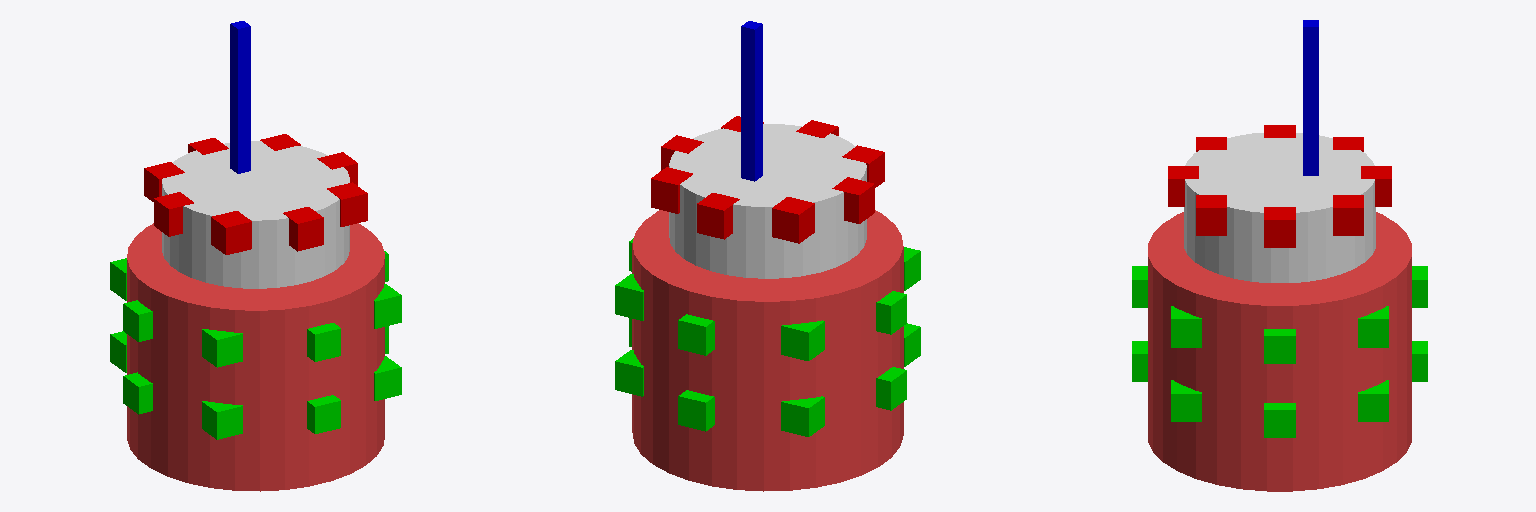
robot.urdf — random_bottle:
<?xml version="1.0"?>
<robot name="random_bottle">

  <!-- Define the cap link -->
  <link name="link1">
    <visual>
      <geometry>
        <mesh filename="cap.obj" scale="1.0 1.0 1.0"/>
      </geometry>
       <material name="white">
        <color rgba=".9 .9 .9 1"/>
      </material>

    </visual>
    <collision>
      <geometry>
        <mesh filename="cap.obj" scale="1.0 1.0 1.0"/>
      </geometry>
    </collision>

    <inertial>
      <mass value="0.018031800088194196"/> <!-- You can adjust the mass as needed -->
      <origin rpy="0 0 0" xyz="0 0 0"/>
      <inertia ixx="5.257573632833981e-06" ixy="0.0" ixz="0.0" iyy="5.257573632833981e-06" iyz="0.0" izz="8.669572309926202e-06"/>
    </inertial>
  </link>

    <link name="l10">
    <visual>
      <geometry>
        <box size="0.01 0.01 0.01"/>
      </geometry>

      <material name="red">
        <color rgba="0.9 0.0 0.0 1"/>
      </material>

    </visual>

    <inertial>
      <mass value="0.0001"/> <!-- You can adjust the mass as needed -->
      <origin rpy="0 0 0" xyz="0 0 -0.00"/> <!-- Offset by half of link1's height + 0.03m for the margin -->
      <inertia ixx="0.000000003" ixy="0.0" ixz="0.0" iyy="0.0000003" iyz="0.0" izz="0.00000003"/>
    </inertial>

  </link>
  <link name="l11">
    <visual>
      <geometry>
        <box size="0.01 0.01 0.01"/>
      </geometry>

      <material name="red">
        <color rgba="0.9 0.0 0.0 1"/>
      </material>

    </visual>

    <inertial>
      <mass value="0.0001"/> <!-- You can adjust the mass as needed -->
      <origin rpy="0 0 0" xyz="0 0 -0.00"/> <!-- Offset by half of link1's height + 0.03m for the margin -->
      <inertia ixx="0.000000003" ixy="0.0" ixz="0.0" iyy="0.0000003" iyz="0.0" izz="0.00000003"/>
    </inertial>

  </link>
  <link name="l12">
    <visual>
      <geometry>
        <box size="0.01 0.01 0.01"/>
      </geometry>

      <material name="red">
        <color rgba="0.9 0.0 0.0 1"/>
      </material>

    </visual>

    <inertial>
      <mass value="0.0001"/> <!-- You can adjust the mass as needed -->
      <origin rpy="0 0 0" xyz="0 0 -0.00"/> <!-- Offset by half of link1's height + 0.03m for the margin -->
      <inertia ixx="0.000000003" ixy="0.0" ixz="0.0" iyy="0.0000003" iyz="0.0" izz="0.00000003"/>
    </inertial>

  </link>
  <link name="l13">
    <visual>
      <geometry>
        <box size="0.01 0.01 0.01"/>
      </geometry>

      <material name="red">
        <color rgba="0.9 0.0 0.0 1"/>
      </material>

    </visual>

    <inertial>
      <mass value="0.0001"/> <!-- You can adjust the mass as needed -->
      <origin rpy="0 0 0" xyz="0 0 -0.00"/> <!-- Offset by half of link1's height + 0.03m for the margin -->
      <inertia ixx="0.000000003" ixy="0.0" ixz="0.0" iyy="0.0000003" iyz="0.0" izz="0.00000003"/>
    </inertial>

  </link>
  <link name="l10b">
    <visual>
      <geometry>
        <box size="0.01 0.01 0.01"/>
      </geometry>

      <material name="red">
        <color rgba="0.9 0.0 0.0 1"/>
      </material>

    </visual>

    <inertial>
      <mass value="0.0001"/> <!-- You can adjust the mass as needed -->
      <origin rpy="0 0 0" xyz="0 0 -0.00"/> <!-- Offset by half of link1's height + 0.03m for the margin -->
      <inertia ixx="0.000000003" ixy="0.0" ixz="0.0" iyy="0.0000003" iyz="0.0" izz="0.00000003"/>
    </inertial>

  </link>
  <link name="l11b">
    <visual>
      <geometry>
        <box size="0.01 0.01 0.01"/>
      </geometry>

      <material name="red">
        <color rgba="0.9 0.0 0.0 1"/>
      </material>

    </visual>

    <inertial>
      <mass value="0.0001"/> <!-- You can adjust the mass as needed -->
      <origin rpy="0 0 0" xyz="0 0 -0.00"/> <!-- Offset by half of link1's height + 0.03m for the margin -->
      <inertia ixx="0.000000003" ixy="0.0" ixz="0.0" iyy="0.0000003" iyz="0.0" izz="0.00000003"/>
    </inertial>

  </link>
  <link name="l12b">
    <visual>
      <geometry>
        <box size="0.01 0.01 0.01"/>
      </geometry>

      <material name="red">
        <color rgba="0.9 0.0 0.0 1"/>
      </material>

    </visual>

    <inertial>
      <mass value="0.0001"/> <!-- You can adjust the mass as needed -->
      <origin rpy="0 0 0" xyz="0 0 -0.00"/> <!-- Offset by half of link1's height + 0.03m for the margin -->
      <inertia ixx="0.000000003" ixy="0.0" ixz="0.0" iyy="0.0000003" iyz="0.0" izz="0.00000003"/>
    </inertial>

  </link>
  <link name="l13b">
    <visual>
      <geometry>
        <box size="0.01 0.01 0.01"/>
      </geometry>

      <material name="red">
        <color rgba="0.9 0.0 0.0 1"/>
      </material>

    </visual>

    <inertial>
      <mass value="0.0001"/> <!-- You can adjust the mass as needed -->
      <origin rpy="0 0 0" xyz="0 0 -0.00"/> <!-- Offset by half of link1's height + 0.03m for the margin -->
      <inertia ixx="0.000000003" ixy="0.0" ixz="0.0" iyy="0.0000003" iyz="0.0" izz="0.00000003"/>
    </inertial>

  </link>
  <link name="l20">
    <visual>
      <geometry>
        <box size="0.01 0.01 0.01"/>
      </geometry>

      <material name="red">
        <color rgba="0.0 0.9 0.0 1"/>
      </material>

    </visual>

    <inertial>
      <mass value="0.0001"/> <!-- You can adjust the mass as needed -->
      <origin rpy="0 0 0" xyz="0 0 -0.00"/> <!-- Offset by half of link1's height + 0.03m for the margin -->
      <inertia ixx="0.000000003" ixy="0.0" ixz="0.0" iyy="0.0000003" iyz="0.0" izz="0.00000003"/>
    </inertial>

  </link>
  <link name="l21">
    <visual>
      <geometry>
        <box size="0.01 0.01 0.01"/>
      </geometry>

      <material name="red">
        <color rgba="0.0 0.9 0.0 1"/>
      </material>

    </visual>

    <inertial>
      <mass value="0.0001"/> <!-- You can adjust the mass as needed -->
      <origin rpy="0 0 0" xyz="0 0 -0.00"/> <!-- Offset by half of link1's height + 0.03m for the margin -->
      <inertia ixx="0.000000003" ixy="0.0" ixz="0.0" iyy="0.0000003" iyz="0.0" izz="0.00000003"/>
    </inertial>

  </link>
  <link name="l22">
    <visual>
      <geometry>
        <box size="0.01 0.01 0.01"/>
      </geometry>

      <material name="red">
        <color rgba="0.0 0.9 0.0 1"/>
      </material>

    </visual>

    <inertial>
      <mass value="0.0001"/> <!-- You can adjust the mass as needed -->
      <origin rpy="0 0 0" xyz="0 0 -0.00"/> <!-- Offset by half of link1's height + 0.03m for the margin -->
      <inertia ixx="0.000000003" ixy="0.0" ixz="0.0" iyy="0.0000003" iyz="0.0" izz="0.00000003"/>
    </inertial>

  </link>
  <link name="l23">
    <visual>
      <geometry>
        <box size="0.01 0.01 0.01"/>
      </geometry>

      <material name="red">
        <color rgba="0.0 0.9 0.0 1"/>
      </material>

    </visual>

    <inertial>
      <mass value="0.0001"/> <!-- You can adjust the mass as needed -->
      <origin rpy="0 0 0" xyz="0 0 -0.00"/> <!-- Offset by half of link1's height + 0.03m for the margin -->
      <inertia ixx="0.000000003" ixy="0.0" ixz="0.0" iyy="0.0000003" iyz="0.0" izz="0.00000003"/>
    </inertial>

  </link>
  <link name="l24">
    <visual>
      <geometry>
        <box size="0.01 0.01 0.01"/>
      </geometry>

      <material name="red">
        <color rgba="0.0 0.9 0.0 1"/>
      </material>

    </visual>

    <inertial>
      <mass value="0.0001"/> <!-- You can adjust the mass as needed -->
      <origin rpy="0 0 0" xyz="0 0 -0.00"/> <!-- Offset by half of link1's height + 0.03m for the margin -->
      <inertia ixx="0.000000003" ixy="0.0" ixz="0.0" iyy="0.0000003" iyz="0.0" izz="0.00000003"/>
    </inertial>

  </link>
  <link name="l25">
    <visual>
      <geometry>
        <box size="0.01 0.01 0.01"/>
      </geometry>

      <material name="red">
        <color rgba="0.0 0.9 0.0 1"/>
      </material>

    </visual>

    <inertial>
      <mass value="0.0001"/> <!-- You can adjust the mass as needed -->
      <origin rpy="0 0 0" xyz="0 0 -0.00"/> <!-- Offset by half of link1's height + 0.03m for the margin -->
      <inertia ixx="0.000000003" ixy="0.0" ixz="0.0" iyy="0.0000003" iyz="0.0" izz="0.00000003"/>
    </inertial>

  </link>
  <link name="l26">
    <visual>
      <geometry>
        <box size="0.01 0.01 0.01"/>
      </geometry>

      <material name="red">
        <color rgba="0.0 0.9 0.0 1"/>
      </material>

    </visual>

    <inertial>
      <mass value="0.0001"/> <!-- You can adjust the mass as needed -->
      <origin rpy="0 0 0" xyz="0 0 -0.00"/> <!-- Offset by half of link1's height + 0.03m for the margin -->
      <inertia ixx="0.000000003" ixy="0.0" ixz="0.0" iyy="0.0000003" iyz="0.0" izz="0.00000003"/>
    </inertial>

  </link>
  <link name="l27">
    <visual>
      <geometry>
        <box size="0.01 0.01 0.01"/>
      </geometry>

      <material name="red">
        <color rgba="0.0 0.9 0.0 1"/>
      </material>

    </visual>

    <inertial>
      <mass value="0.0001"/> <!-- You can adjust the mass as needed -->
      <origin rpy="0 0 0" xyz="0 0 -0.00"/> <!-- Offset by half of link1's height + 0.03m for the margin -->
      <inertia ixx="0.000000003" ixy="0.0" ixz="0.0" iyy="0.0000003" iyz="0.0" izz="0.00000003"/>
    </inertial>

  </link>
  <link name="l30">
    <visual>
      <geometry>
        <box size="0.01 0.01 0.01"/>
      </geometry>

      <material name="red">
        <color rgba="0.0 0.9 0.0 1"/>
      </material>

    </visual>

    <inertial>
      <mass value="0.0001"/> <!-- You can adjust the mass as needed -->
      <origin rpy="0 0 0" xyz="0 0 -0.00"/> <!-- Offset by half of link1's height + 0.03m for the margin -->
      <inertia ixx="0.000000003" ixy="0.0" ixz="0.0" iyy="0.0000003" iyz="0.0" izz="0.00000003"/>
    </inertial>

  </link>
  <link name="l31">
    <visual>
      <geometry>
        <box size="0.01 0.01 0.01"/>
      </geometry>

      <material name="red">
        <color rgba="0.0 0.9 0.0 1"/>
      </material>

    </visual>

    <inertial>
      <mass value="0.0001"/> <!-- You can adjust the mass as needed -->
      <origin rpy="0 0 0" xyz="0 0 -0.00"/> <!-- Offset by half of link1's height + 0.03m for the margin -->
      <inertia ixx="0.000000003" ixy="0.0" ixz="0.0" iyy="0.0000003" iyz="0.0" izz="0.00000003"/>
    </inertial>

  </link>
  <link name="l32">
    <visual>
      <geometry>
        <box size="0.01 0.01 0.01"/>
      </geometry>

      <material name="red">
        <color rgba="0.0 0.9 0.0 1"/>
      </material>

    </visual>

    <inertial>
      <mass value="0.0001"/> <!-- You can adjust the mass as needed -->
      <origin rpy="0 0 0" xyz="0 0 -0.00"/> <!-- Offset by half of link1's height + 0.03m for the margin -->
      <inertia ixx="0.000000003" ixy="0.0" ixz="0.0" iyy="0.0000003" iyz="0.0" izz="0.00000003"/>
    </inertial>

  </link>
  <link name="l33">
    <visual>
      <geometry>
        <box size="0.01 0.01 0.01"/>
      </geometry>

      <material name="red">
        <color rgba="0.0 0.9 0.0 1"/>
      </material>

    </visual>

    <inertial>
      <mass value="0.0001"/> <!-- You can adjust the mass as needed -->
      <origin rpy="0 0 0" xyz="0 0 -0.00"/> <!-- Offset by half of link1's height + 0.03m for the margin -->
      <inertia ixx="0.000000003" ixy="0.0" ixz="0.0" iyy="0.0000003" iyz="0.0" izz="0.00000003"/>
    </inertial>

  </link>
  <link name="l34">
    <visual>
      <geometry>
        <box size="0.01 0.01 0.01"/>
      </geometry>

      <material name="red">
        <color rgba="0.0 0.9 0.0 1"/>
      </material>

    </visual>

    <inertial>
      <mass value="0.0001"/> <!-- You can adjust the mass as needed -->
      <origin rpy="0 0 0" xyz="0 0 -0.00"/> <!-- Offset by half of link1's height + 0.03m for the margin -->
      <inertia ixx="0.000000003" ixy="0.0" ixz="0.0" iyy="0.0000003" iyz="0.0" izz="0.00000003"/>
    </inertial>

  </link>
  <link name="l35">
    <visual>
      <geometry>
        <box size="0.01 0.01 0.01"/>
      </geometry>

      <material name="red">
        <color rgba="0.0 0.9 0.0 1"/>
      </material>

    </visual>

    <inertial>
      <mass value="0.0001"/> <!-- You can adjust the mass as needed -->
      <origin rpy="0 0 0" xyz="0 0 -0.00"/> <!-- Offset by half of link1's height + 0.03m for the margin -->
      <inertia ixx="0.000000003" ixy="0.0" ixz="0.0" iyy="0.0000003" iyz="0.0" izz="0.00000003"/>
    </inertial>

  </link>
  <link name="l36">
    <visual>
      <geometry>
        <box size="0.01 0.01 0.01"/>
      </geometry>

      <material name="red">
        <color rgba="0.0 0.9 0.0 1"/>
      </material>

    </visual>

    <inertial>
      <mass value="0.0001"/> <!-- You can adjust the mass as needed -->
      <origin rpy="0 0 0" xyz="0 0 -0.00"/> <!-- Offset by half of link1's height + 0.03m for the margin -->
      <inertia ixx="0.000000003" ixy="0.0" ixz="0.0" iyy="0.0000003" iyz="0.0" izz="0.00000003"/>
    </inertial>

  </link>
  <link name="l37">
    <visual>
      <geometry>
        <box size="0.01 0.01 0.01"/>
      </geometry>

      <material name="red">
        <color rgba="0.0 0.9 0.0 1"/>
      </material>

    </visual>

    <inertial>
      <mass value="0.0001"/> <!-- You can adjust the mass as needed -->
      <origin rpy="0 0 0" xyz="0 0 -0.00"/> <!-- Offset by half of link1's height + 0.03m for the margin -->
      <inertia ixx="0.000000003" ixy="0.0" ixz="0.0" iyy="0.0000003" iyz="0.0" izz="0.00000003"/>
    </inertial>

  </link>


  <link name="hint">
    <visual>
      <geometry>
        <box size="0.005 0.005 0.07"/> <!-- 9cm x 9cm x 6cm -->
      </geometry>
       <material name="blue">
        <color rgba=".0 .0 .9 1"/>
      </material>
    </visual>

    <inertial>
      <mass value="0.0001"/> <!-- You can adjust the mass as needed -->
      <origin rpy="0 0 0" xyz="0 0 -0.00"/> <!-- Offset by half of link1's height + 0.03m for the margin -->
      <inertia ixx="0.000000003" ixy="0.0" ixz="0.0" iyy="0.0000003" iyz="0.0" izz="0.00000003"/>
    </inertial>


  </link>

  <!-- Define the base link -->
  <link name="link2">
    <visual>
      <geometry>
        <mesh filename="base.obj" scale="1.0 1.0 1.0"/>
      </geometry>
      <material name="red">
        <color rgba=".9 .3 .3 1"/>
      </material>

    </visual>

    <collision>
      <geometry>
        <mesh filename="base.obj" scale="1.0 1.0 1.0"/>
      </geometry>
    </collision>

    <inertial>
      <mass value="0.05138917675264147"/> <!-- You can adjust the mass as needed -->
      <origin rpy="0 0 0" xyz="0 0 -0.00"/> <!-- Offset by half of link1's height + 0.03m for the margin -->
      <inertia ixx="4.165640842589663e-05" ixy="0.0" ixz="0.0" iyy="4.165640842589663e-05" iyz="0.0" izz="4.647931352845021e-05"/>
    </inertial>
  </link>



  <link name="brake">
   <visual>
      <geometry>
        <box size="0.02 0.02 0.005"/> <!-- 6cm x 6cm x 2cm -->
      </geometry>
       <material name="gray">
        <color rgba=".5 .5 .5 1"/>
      </material>

    </visual>
    <collision>
      <geometry>
        <box size="0.02 0.02 0.005"/> <!-- 6cm x 6cm x 2cm -->
      </geometry>
    </collision>

    <inertial>
      <mass value="0.005"/> <!-- You can adjust the mass as needed -->
      <origin rpy="0 0 0" xyz="0 0 0"/>
      <inertia ixx="0.00018" ixy="0.0" ixz="0.0" iyy="0.00018" iyz="0.0" izz="0.00018"/>
    </inertial>
  </link>

  <!-- Define the joint connecting link1 and link2 as a revolute joint along z-axis -->
  <joint name="fix_joint" type="fixed">
    <parent link="link1"/>
    <child link="hint"/>
    <origin rpy="0 0 0" xyz="0 0.01 0.03"/> <!-- Offset by half of link1's height for the margin -->
    <axis xyz="0 0 1"/>
  </joint>

  <!-- Define the joint connecting link1 and link2 as a revolute joint along z-axis -->
  <joint name="brake_joint" type="prismatic">
    <parent link="link2"/>
    <child link="brake"/>
    <origin rpy="0 0 0" xyz="0 0 0.05757041404321072"/> <!-- Offset by half of link1's height for the margin -->
    <axis xyz="0 0 1"/>
    <limit lower="-0.02" upper="0.02" />
    <!-- <dynamics damping="0.0" friction="0.0"/> -->
  </joint>


  <joint name="b_joint" type="revolute">
    <parent link="link2"/>
    <child link="link1"/>
    <origin rpy="0 0 0" xyz="0 0 0.04778923717405069"/> <!-- Offset by half of link1's height for the margin -->
    <axis xyz="0 0 1"/>
    <!-- No joint limits -->
    <dynamics damping="0.0" friction="0.0"/>
  </joint>


  <!-- marker -->
    <joint name="jl10" type="fixed">
    <parent link="link1"/>
    <child link="l10"/>
    <origin rpy="0 0 0" xyz="0.0 0.031009466357805163 0.0074343530607480085"/> <!-- Offset by half of link1's height for the margin -->
    <axis xyz="0 0 1"/>
  </joint>
  <joint name="jl11" type="fixed">
    <parent link="link1"/>
    <child link="l11"/>
    <origin rpy="0 0 0" xyz="0.02192700364881424 0.02192700423634604 0.0074343530607480085"/> <!-- Offset by half of link1's height for the margin -->
    <axis xyz="0 0 1"/>
  </joint>
  <joint name="jl12" type="fixed">
    <parent link="link1"/>
    <child link="l12"/>
    <origin rpy="0 0 0" xyz="0.031009466357805153 8.308954442143138e-10 0.0074343530607480085"/> <!-- Offset by half of link1's height for the margin -->
    <axis xyz="0 0 1"/>
  </joint>
  <joint name="jl13" type="fixed">
    <parent link="link1"/>
    <child link="l13"/>
    <origin rpy="0 0 0" xyz="0.021927004823877824 -0.021927003061282424 0.0074343530607480085"/> <!-- Offset by half of link1's height for the margin -->
    <axis xyz="0 0 1"/>
  </joint>
  <joint name="jl10b" type="fixed">
    <parent link="link1"/>
    <child link="l10b"/>
    <origin rpy="0 0 0" xyz="1.661790888428627e-09 -0.03100946635780512 0.0074343530607480085"/> <!-- Offset by half of link1's height for the margin -->
    <axis xyz="0 0 1"/>
  </joint>
  <joint name="jl11b" type="fixed">
    <parent link="link1"/>
    <child link="l11b"/>
    <origin rpy="0 0 0" xyz="-0.02192700247375058 -0.021927005411409607 0.0074343530607480085"/> <!-- Offset by half of link1's height for the margin -->
    <axis xyz="0 0 1"/>
  </joint>
  <joint name="jl12b" type="fixed">
    <parent link="link1"/>
    <child link="l12b"/>
    <origin rpy="0 0 0" xyz="-0.031009466357805063 -2.49268631887197e-09 0.0074343530607480085"/> <!-- Offset by half of link1's height for the margin -->
    <axis xyz="0 0 1"/>
  </joint>
  <joint name="jl13b" type="fixed">
    <parent link="link1"/>
    <child link="l13b"/>
    <origin rpy="0 0 0" xyz="-0.02192700599894135 0.021927001886218742 0.0074343530607480085"/> <!-- Offset by half of link1's height for the margin -->
    <axis xyz="0 0 1"/>
  </joint>
  <joint name="jl20" type="fixed">
    <parent link="link2"/>
    <child link="l20"/>
    <origin rpy="0 0 0" xyz="0.0 0.04253133552656441 0.019673542304430414"/> <!-- Offset by half of link1's height for the margin -->
    <axis xyz="0 0 1"/>
  </joint>
  <joint name="jl21" type="fixed">
    <parent link="link2"/>
    <child link="l21"/>
    <origin rpy="0 0 0" xyz="0.03007419536083653 0.03007419616667149 0.019673542304430414"/> <!-- Offset by half of link1's height for the margin -->
    <axis xyz="0 0 1"/>
  </joint>
  <joint name="jl22" type="fixed">
    <parent link="link2"/>
    <child link="l22"/>
    <origin rpy="0 0 0" xyz="0.04253133552656439 1.1396227370574475e-09 0.019673542304430414"/> <!-- Offset by half of link1's height for the margin -->
    <axis xyz="0 0 1"/>
  </joint>
  <joint name="jl23" type="fixed">
    <parent link="link2"/>
    <child link="l23"/>
    <origin rpy="0 0 0" xyz="0.030074196972506427 -0.030074194555001547 0.019673542304430414"/> <!-- Offset by half of link1's height for the margin -->
    <axis xyz="0 0 1"/>
  </joint>
  <joint name="jl24" type="fixed">
    <parent link="link2"/>
    <child link="l24"/>
    <origin rpy="0 0 0" xyz="2.279245474114894e-09 -0.042531335526564344 0.019673542304430414"/> <!-- Offset by half of link1's height for the margin -->
    <axis xyz="0 0 1"/>
  </joint>
  <joint name="jl25" type="fixed">
    <parent link="link2"/>
    <child link="l25"/>
    <origin rpy="0 0 0" xyz="-0.030074193749166526 -0.030074197778341364 0.019673542304430414"/> <!-- Offset by half of link1's height for the margin -->
    <axis xyz="0 0 1"/>
  </joint>
  <joint name="jl26" type="fixed">
    <parent link="link2"/>
    <child link="l26"/>
    <origin rpy="0 0 0" xyz="-0.04253133552656427 -3.4188681922846325e-09 0.019673542304430414"/> <!-- Offset by half of link1's height for the margin -->
    <axis xyz="0 0 1"/>
  </joint>
  <joint name="jl27" type="fixed">
    <parent link="link2"/>
    <child link="l27"/>
    <origin rpy="0 0 0" xyz="-0.030074198584176252 0.03007419294333151 0.019673542304430414"/> <!-- Offset by half of link1's height for the margin -->
    <axis xyz="0 0 1"/>
  </joint>
  <joint name="jl30" type="fixed">
    <parent link="link2"/>
    <child link="l30"/>
    <origin rpy="0 0 0" xyz="0.0 0.04253133552656441 -0.006557847434810138"/> <!-- Offset by half of link1's height for the margin -->
    <axis xyz="0 0 1"/>
  </joint>
  <joint name="jl31" type="fixed">
    <parent link="link2"/>
    <child link="l31"/>
    <origin rpy="0 0 0" xyz="0.03007419536083653 0.03007419616667149 -0.006557847434810138"/> <!-- Offset by half of link1's height for the margin -->
    <axis xyz="0 0 1"/>
  </joint>
  <joint name="jl32" type="fixed">
    <parent link="link2"/>
    <child link="l32"/>
    <origin rpy="0 0 0" xyz="0.04253133552656439 1.1396227370574475e-09 -0.006557847434810138"/> <!-- Offset by half of link1's height for the margin -->
    <axis xyz="0 0 1"/>
  </joint>
  <joint name="jl33" type="fixed">
    <parent link="link2"/>
    <child link="l33"/>
    <origin rpy="0 0 0" xyz="0.030074196972506427 -0.030074194555001547 -0.006557847434810138"/> <!-- Offset by half of link1's height for the margin -->
    <axis xyz="0 0 1"/>
  </joint>
  <joint name="jl34" type="fixed">
    <parent link="link2"/>
    <child link="l34"/>
    <origin rpy="0 0 0" xyz="2.279245474114894e-09 -0.042531335526564344 -0.006557847434810138"/> <!-- Offset by half of link1's height for the margin -->
    <axis xyz="0 0 1"/>
  </joint>
  <joint name="jl35" type="fixed">
    <parent link="link2"/>
    <child link="l35"/>
    <origin rpy="0 0 0" xyz="-0.030074193749166526 -0.030074197778341364 -0.006557847434810138"/> <!-- Offset by half of link1's height for the margin -->
    <axis xyz="0 0 1"/>
  </joint>
  <joint name="jl36" type="fixed">
    <parent link="link2"/>
    <child link="l36"/>
    <origin rpy="0 0 0" xyz="-0.04253133552656427 -3.4188681922846325e-09 -0.006557847434810138"/> <!-- Offset by half of link1's height for the margin -->
    <axis xyz="0 0 1"/>
  </joint>
  <joint name="jl37" type="fixed">
    <parent link="link2"/>
    <child link="l37"/>
    <origin rpy="0 0 0" xyz="-0.030074198584176252 0.03007419294333151 -0.006557847434810138"/> <!-- Offset by half of link1's height for the margin -->
    <axis xyz="0 0 1"/>
  </joint>



</robot>

--- Facts derived from the render (not from the file) ---
The picture shows the robot from 3 angles, left to right: view 1: azimuth 30°, elevation 25°; view 2: azimuth 150°, elevation 25°; view 3: azimuth 270°, elevation 25°; orthographic projection.
Robot: random_bottle — 28 links, 27 joints (1 revolute, 1 prismatic, 25 fixed); root link link2; default pose: all joints at 0.
Visible links, largest first — view 1: link2, link1, hint, l11b, l10b, l35, l25, l12b, l13, l24, l34, l26 (+7 smaller); view 2: link2, link1, hint, l13b, l27, l37, l10, l12b, l20, l30, l11, l26 (+7 smaller); view 3: link2, link1, hint, l12, l11, l13, l22, l32, l21, l23, l31, l33 (+6 smaller).
Boxes of the visible links, x1=… form: link2: x1=127, y1=223, x2=384, y2=491; link1: x1=162, y1=141, x2=349, y2=288; hint: x1=230, y1=21, x2=250, y2=173; l11b: x1=211, y1=211, x2=251, y2=254; l10b: x1=283, y1=207, x2=323, y2=251; l35: x1=202, y1=401, x2=242, y2=439; l25: x1=202, y1=329, x2=242, y2=367; l12b: x1=154, y1=192, x2=193, y2=236; l13: x1=327, y1=182, x2=367, y2=226; l24: x1=307, y1=323, x2=340, y2=361; l34: x1=307, y1=395, x2=340, y2=433; l26: x1=123, y1=300, x2=152, y2=341; link2: x1=632, y1=210, x2=903, y2=491; link1: x1=669, y1=124, x2=866, y2=278; hint: x1=741, y1=21, x2=762, y2=181; l13b: x1=772, y1=197, x2=814, y2=243; l27: x1=781, y1=320, x2=824, y2=360; l37: x1=781, y1=396, x2=824, y2=436; l10: x1=697, y1=193, x2=739, y2=239; l12b: x1=832, y1=177, x2=874, y2=223; l20: x1=678, y1=314, x2=714, y2=355; l30: x1=678, y1=390, x2=714, y2=431; l11: x1=651, y1=167, x2=692, y2=213; l26: x1=876, y1=291, x2=906, y2=334; link2: x1=1148, y1=212, x2=1411, y2=491; link1: x1=1184, y1=133, x2=1375, y2=282; hint: x1=1303, y1=20, x2=1318, y2=175; l12: x1=1264, y1=207, x2=1295, y2=247; l11: x1=1333, y1=195, x2=1363, y2=235; l13: x1=1196, y1=195, x2=1226, y2=235; l22: x1=1264, y1=329, x2=1295, y2=363; l32: x1=1264, y1=403, x2=1295, y2=437; l21: x1=1358, y1=306, x2=1388, y2=347; l23: x1=1171, y1=306, x2=1201, y2=347; l31: x1=1358, y1=380, x2=1388, y2=421; l33: x1=1171, y1=380, x2=1201, y2=421.
Bounding box of the posed robot: 0.0951 × 0.0951 × 0.1456 m (x, y, z).
2 mesh visuals loaded from 2 distinct referenced files (2 OBJ).
